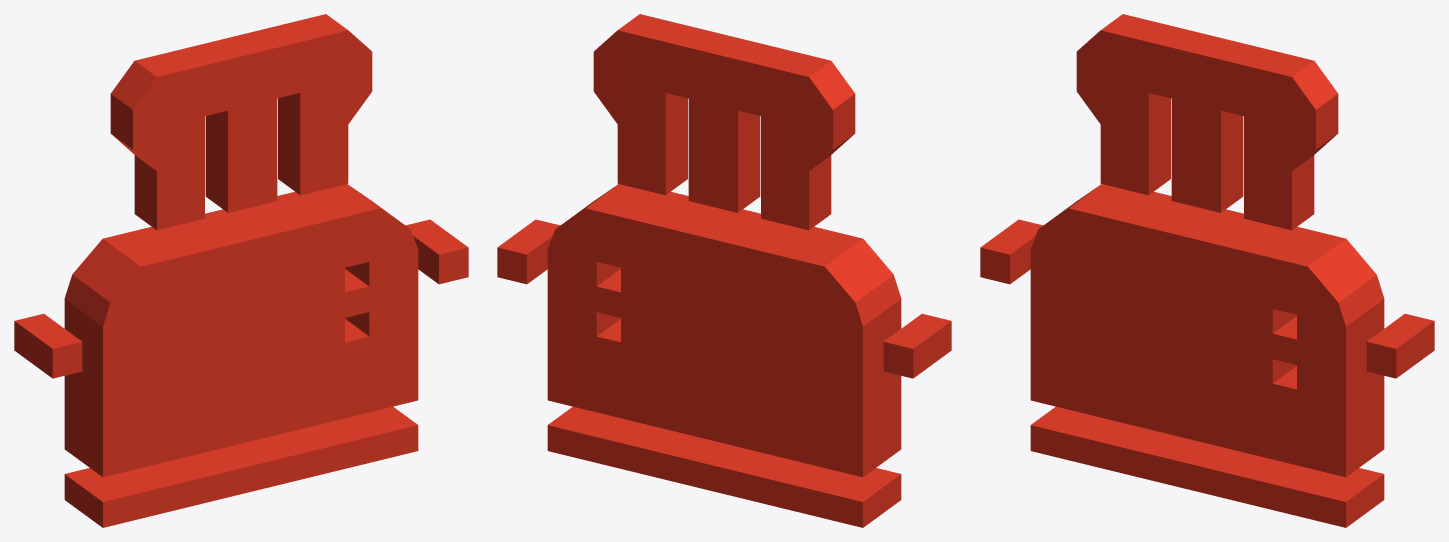
Rendered from Icon_Toaster.fbx.
The picture shows the model from 3 angles, left to right: view 1: azimuth 30°, elevation 25°; view 2: azimuth 150°, elevation 25°; view 3: azimuth 330°, elevation 25°; orthographic projection.
Parts seen in each view (by area): view 1: Icon_Toaster; view 2: Icon_Toaster; view 3: Icon_Toaster.
Boxes of the visible parts, <box> form: Icon_Toaster: <box>14,14,468,527</box>; Icon_Toaster: <box>497,14,951,527</box>; Icon_Toaster: <box>980,14,1434,527</box>.
Size of the model in its own units: 75.52 by 74.61 by 12.06.
